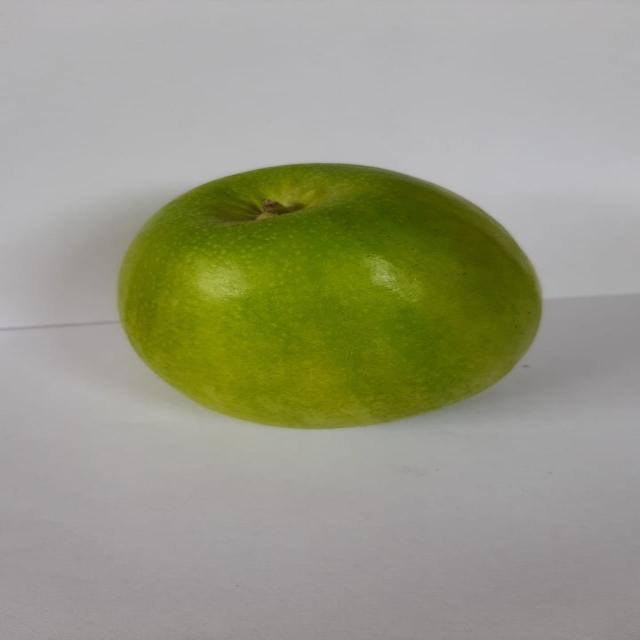50-_ripeness: (107, 150, 549, 438)
